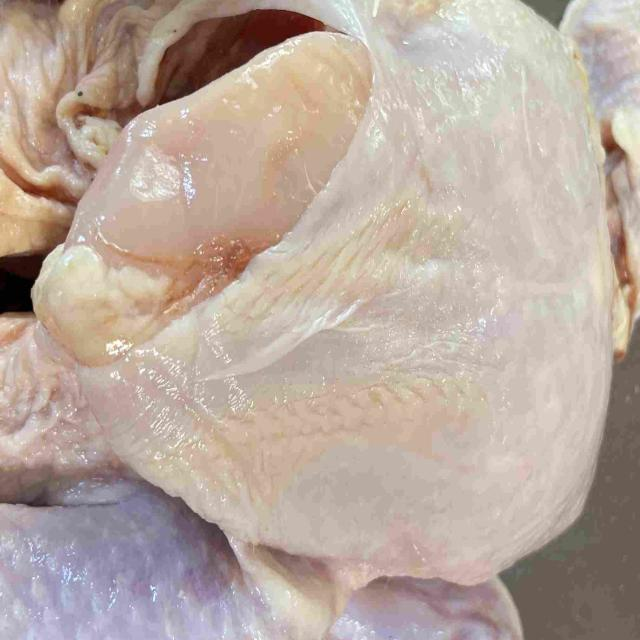breast: (37, 0, 613, 573)
leg: (0, 478, 342, 640)
neck: (566, 0, 640, 355)
wing: (320, 560, 526, 640)
